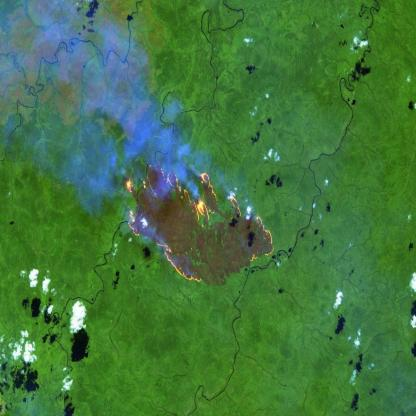fire: (125, 159, 276, 287)
